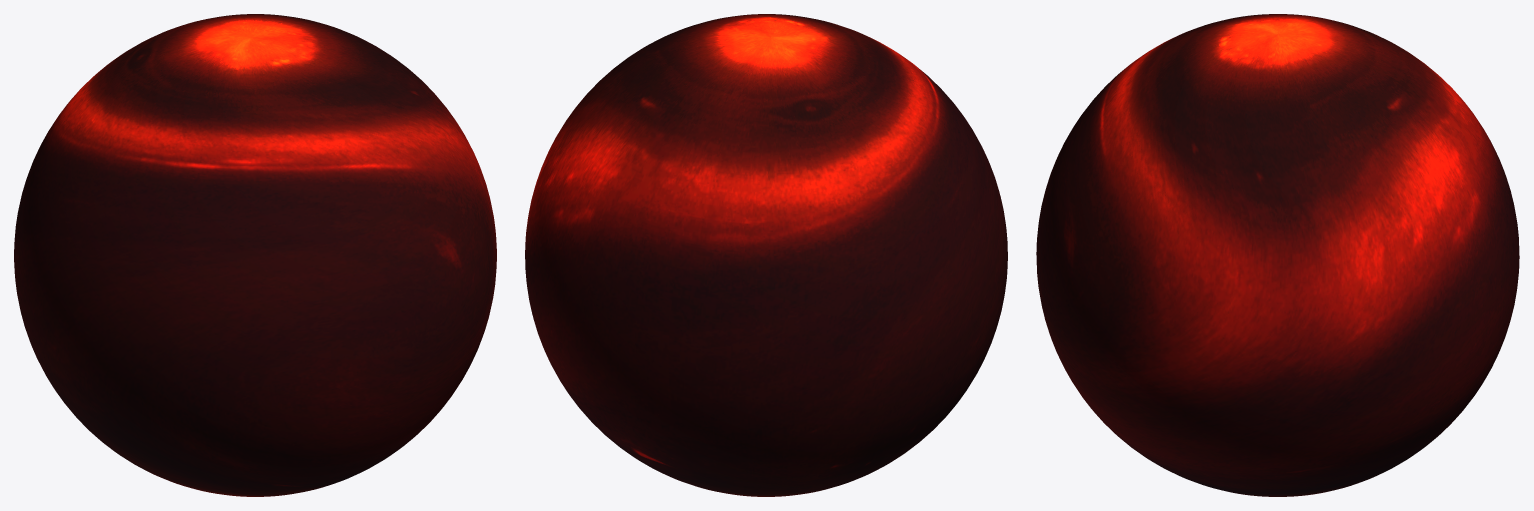
Rendered from planet4.glb.
The picture shows the model from 3 angles, left to right: view 1: azimuth 30°, elevation 25°; view 2: azimuth 150°, elevation 25°; view 3: azimuth 270°, elevation 25°; orthographic projection.
Parts seen in each view (by area): view 1: Esfera; view 2: Esfera; view 3: Esfera.
Part boxes in pixels (bbox=[...]): Esfera: bbox=[14, 14, 496, 496]; Esfera: bbox=[525, 14, 1007, 496]; Esfera: bbox=[1036, 14, 1519, 496].
Bounding box in the file's own units: 1999 × 1999 × 2000.
1 material, 1 textured.
